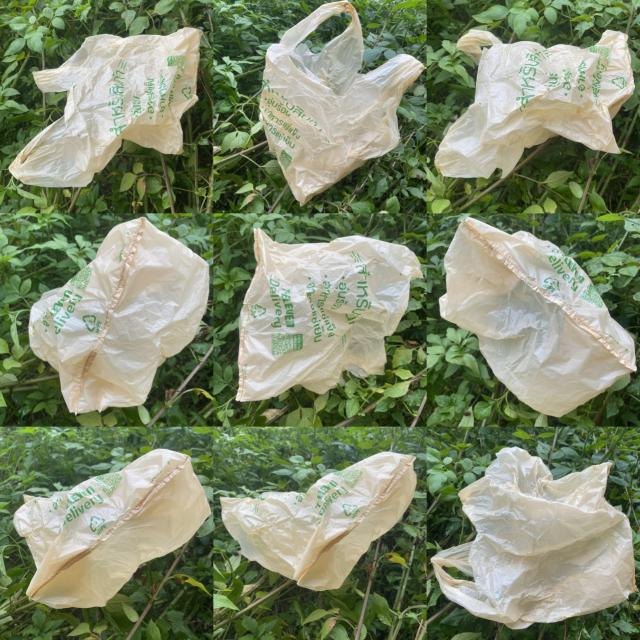Single-layer Plastic: (439, 218, 636, 416), (431, 448, 635, 629), (29, 218, 209, 413), (260, 1, 424, 205), (236, 229, 422, 401), (14, 449, 210, 608), (9, 28, 202, 188), (435, 30, 634, 178), (220, 451, 416, 591)
